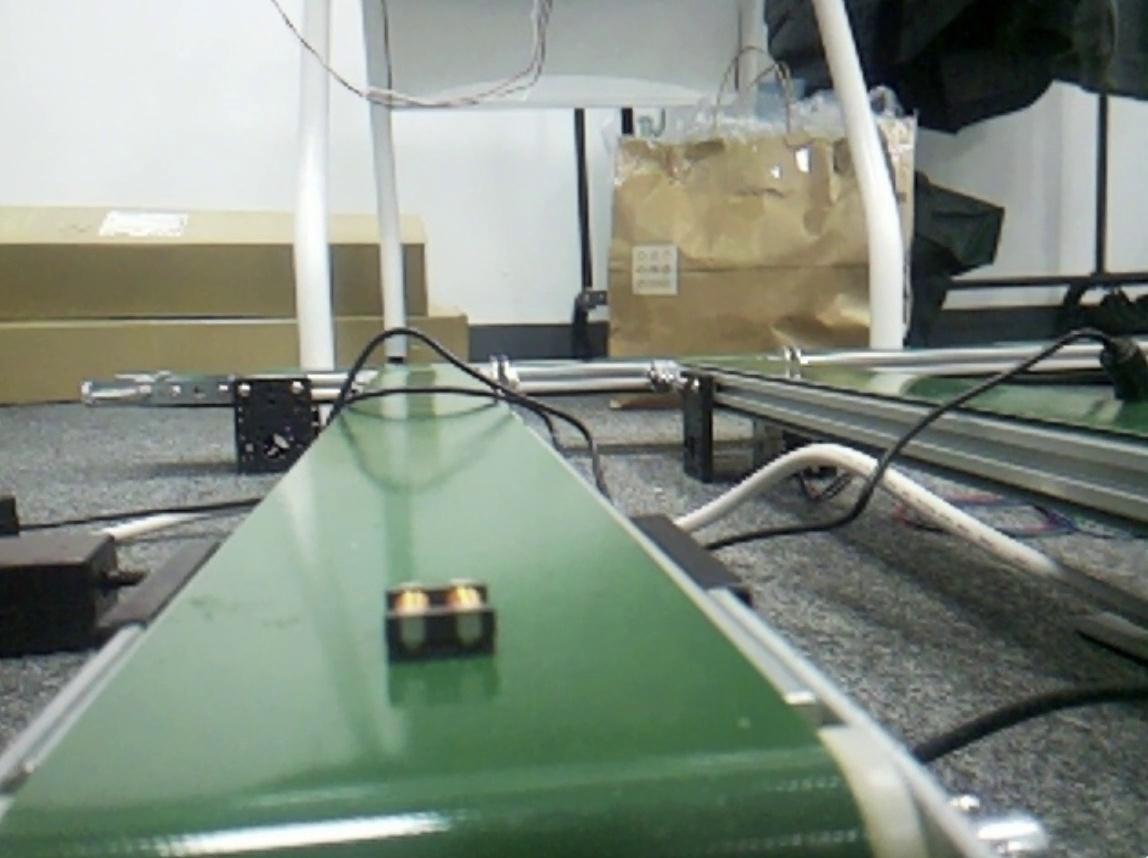inductor: (388, 582, 493, 663)
